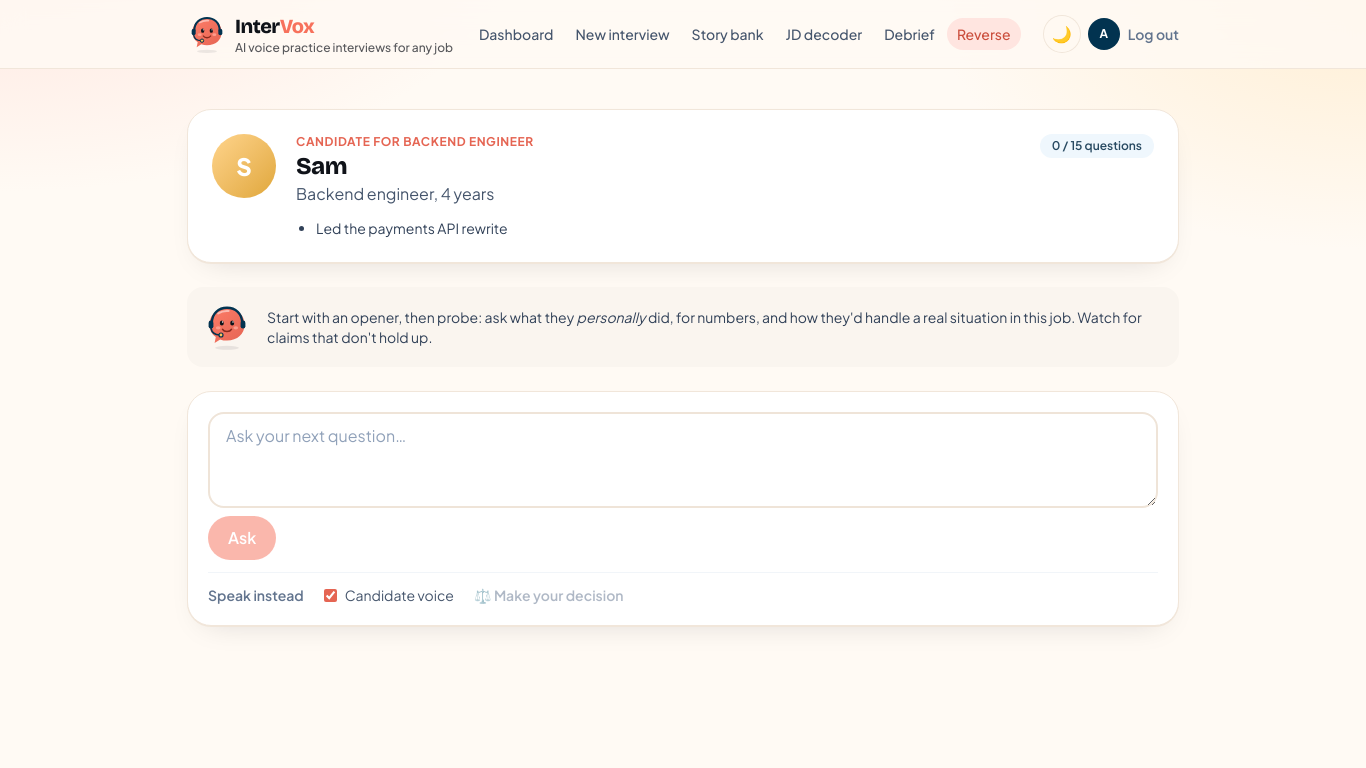
reverse mode › asks questions, decides, and reveals the hidden profile
Type "Who led the rewrite?" into the text box named "Your question". click: (683, 460)
box: [208,412,1158,508]
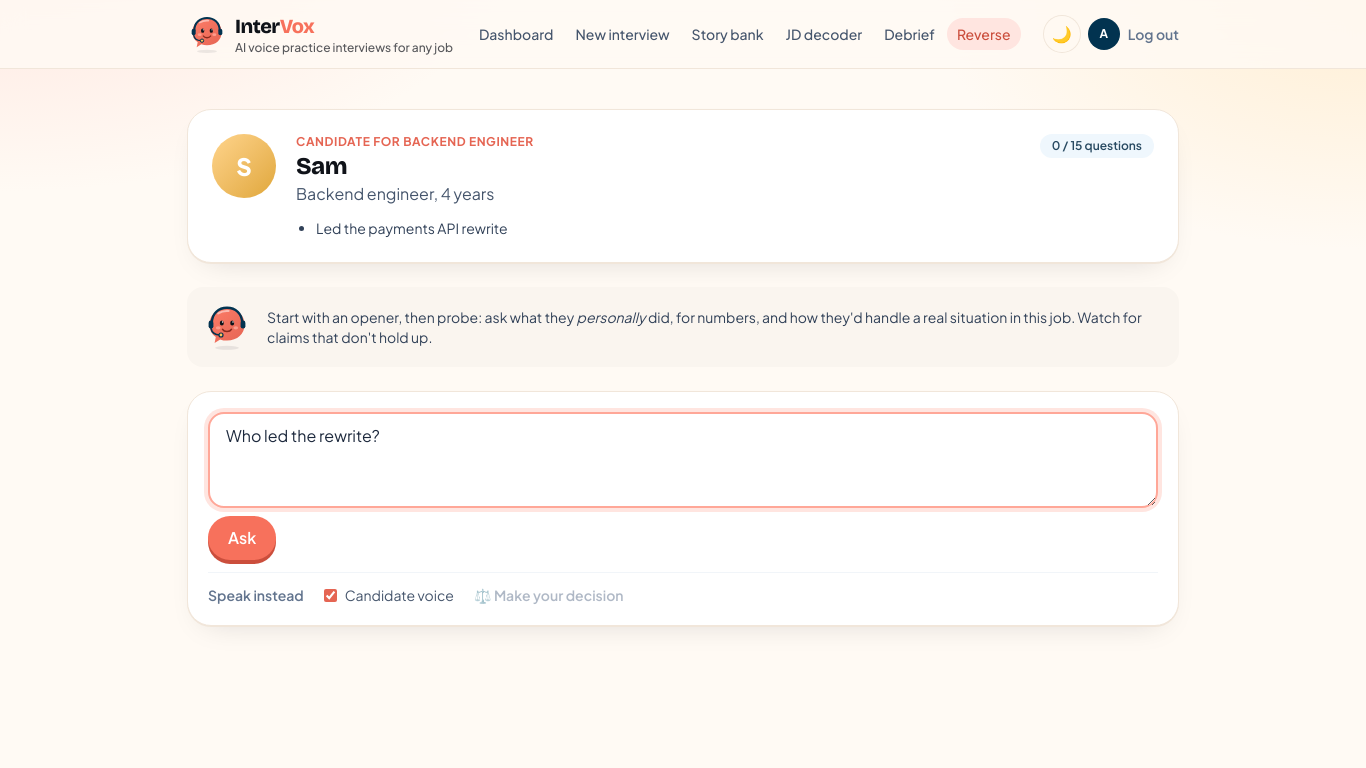
Click the button "Ask". click: (242, 538)
box: [208,516,276,560]
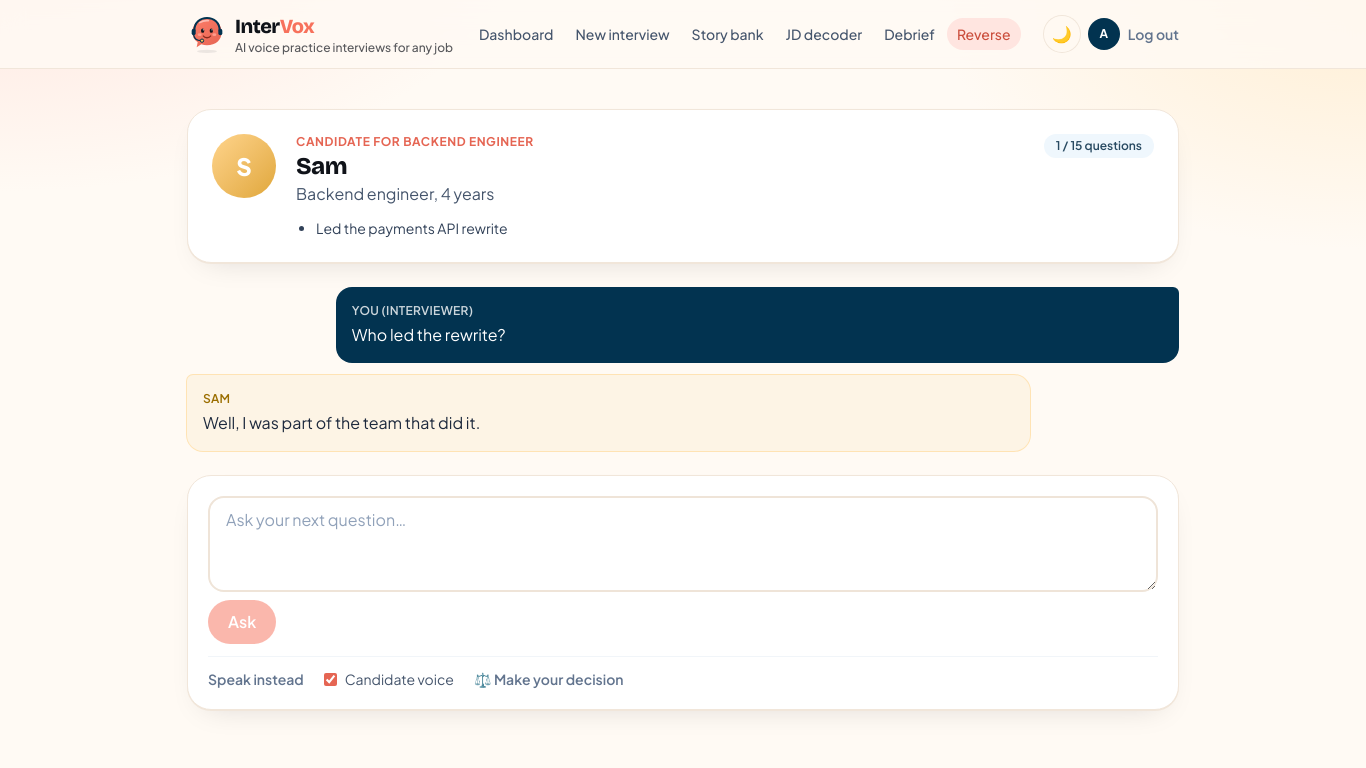
Check: the text "Well, I was part of the team that did it." is shown, box [203,412,480,433]
Click the button "⚖️ Make your decision". click: (549, 679)
box: [474,669,624,689]
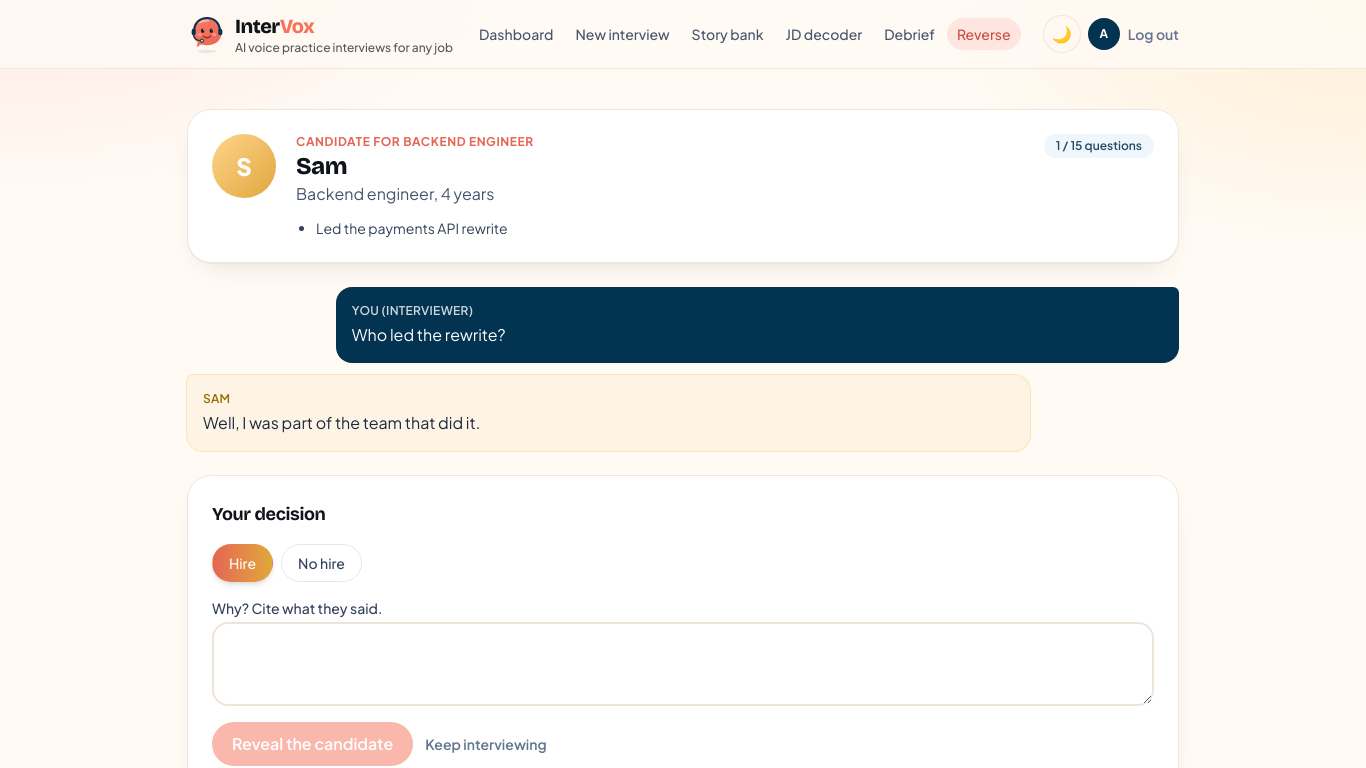
Click the radio button labelled "No hire". click: (322, 563)
box: [281,544,362,582]
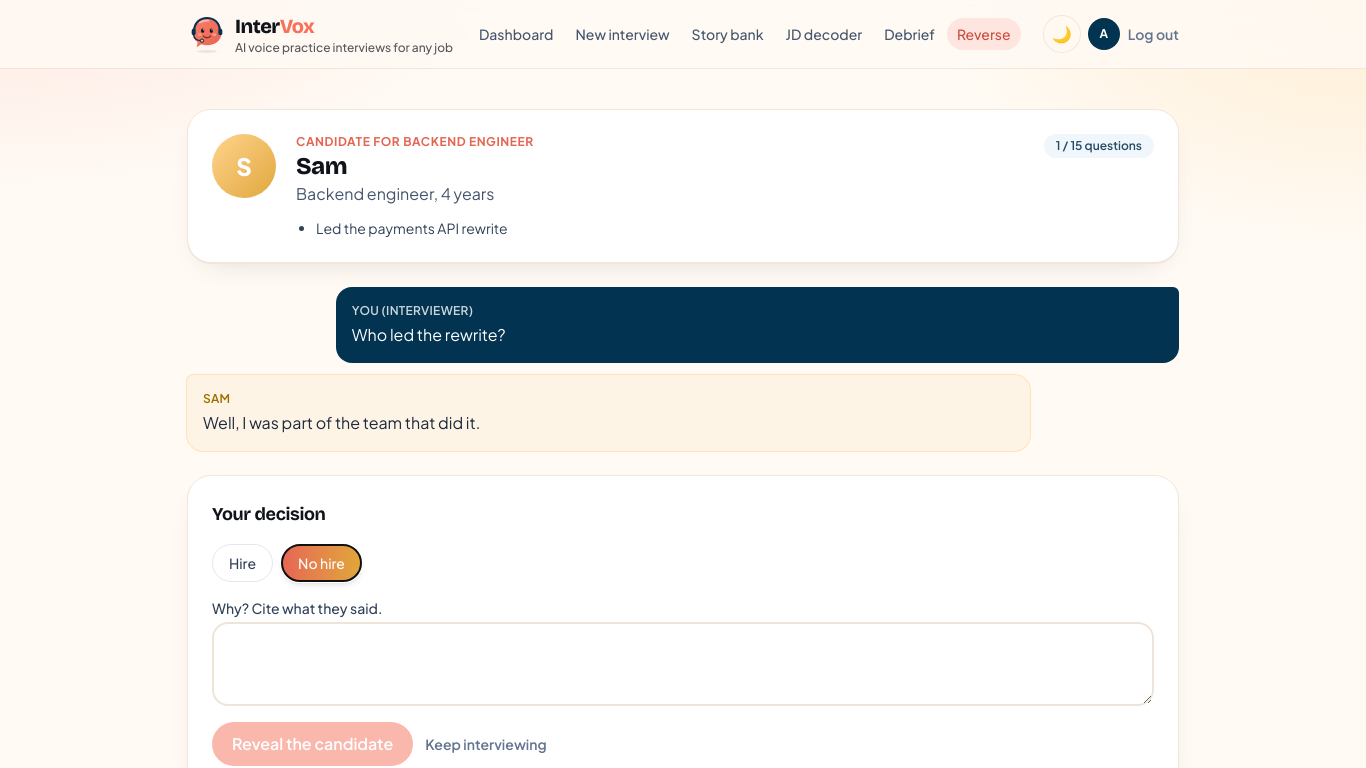
Type "Could not say what they led." into the text box labelled "Why? Cite what they said.". click: (683, 664)
box: [212,622,1154,706]
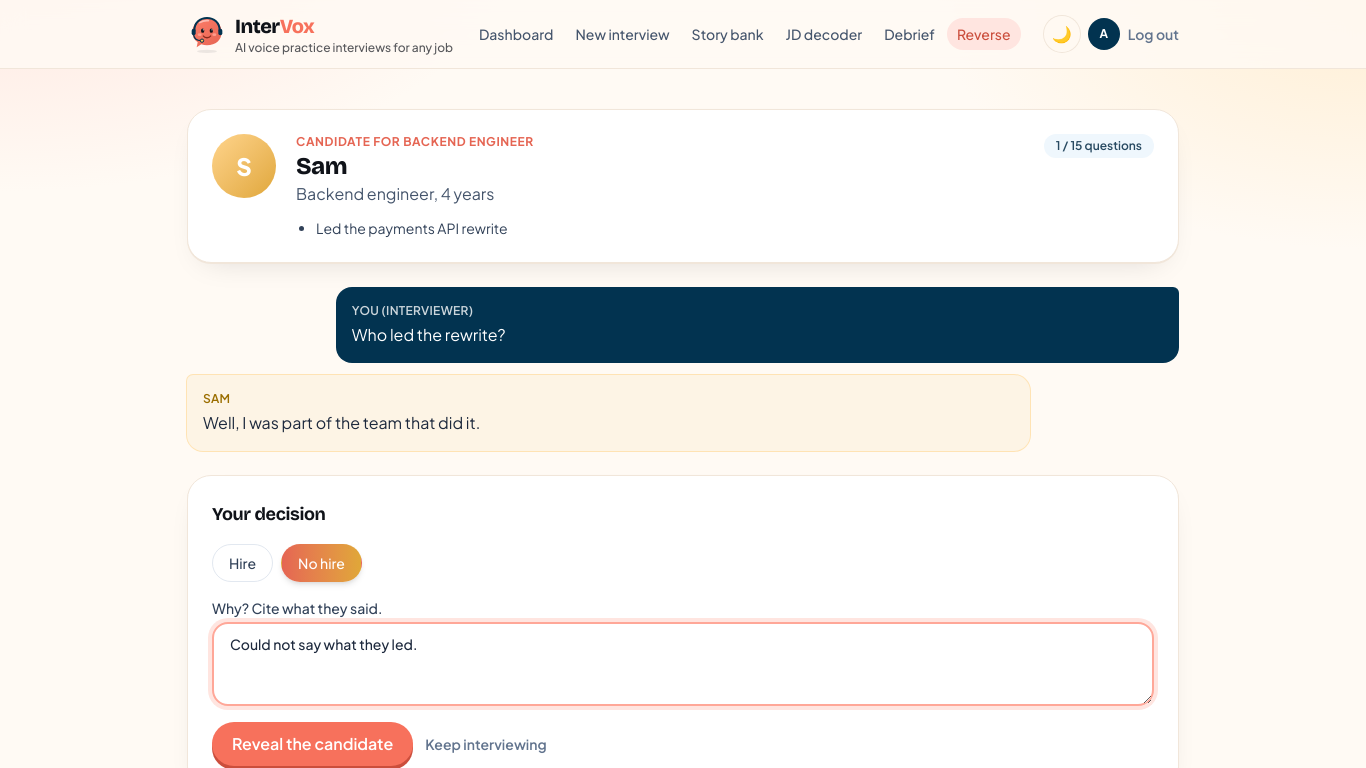
Click the button "Reveal the candidate". click: (313, 744)
box: [212,722,413,766]
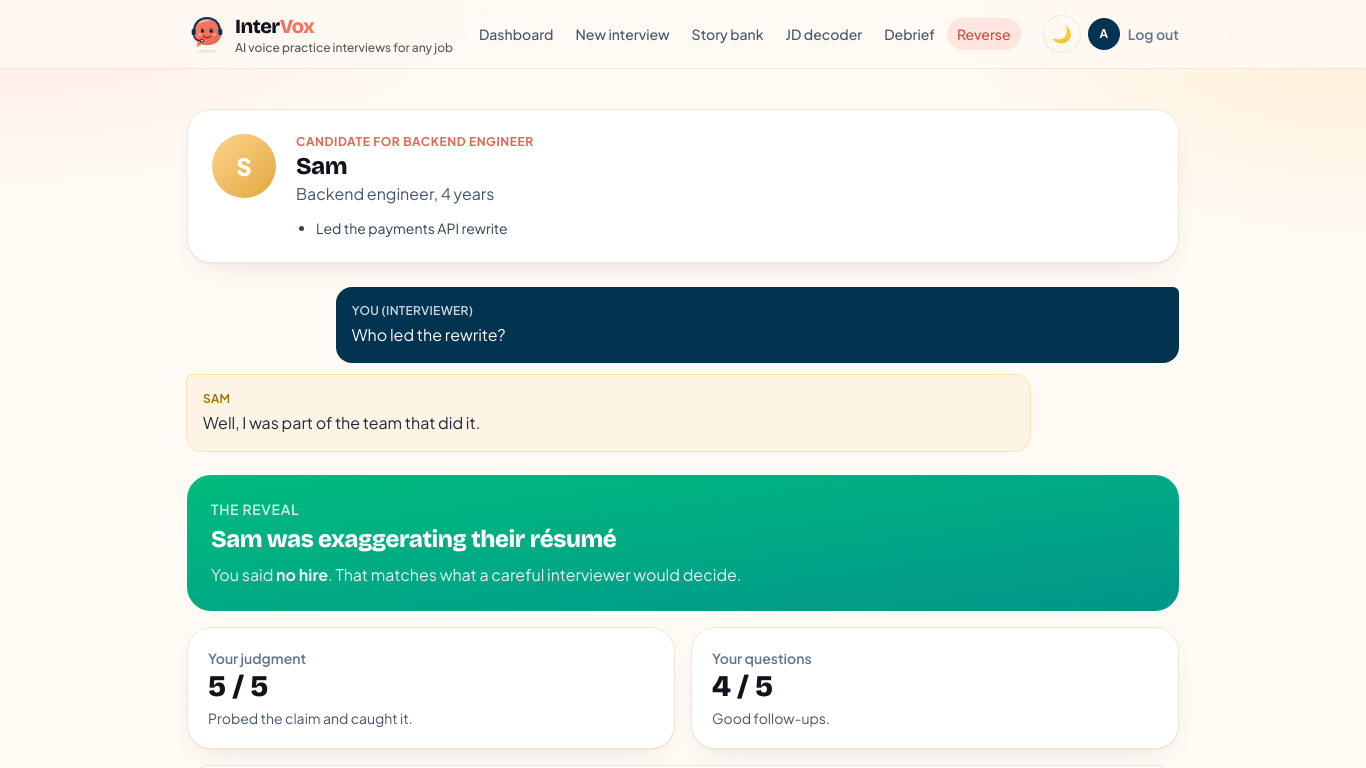
Check: the heading "Sam was exaggerating their résumé" is shown, box [211,525,616,553]
Check: the text "That matches what a careful interviewer would decide." is shown, box [336,564,742,585]
